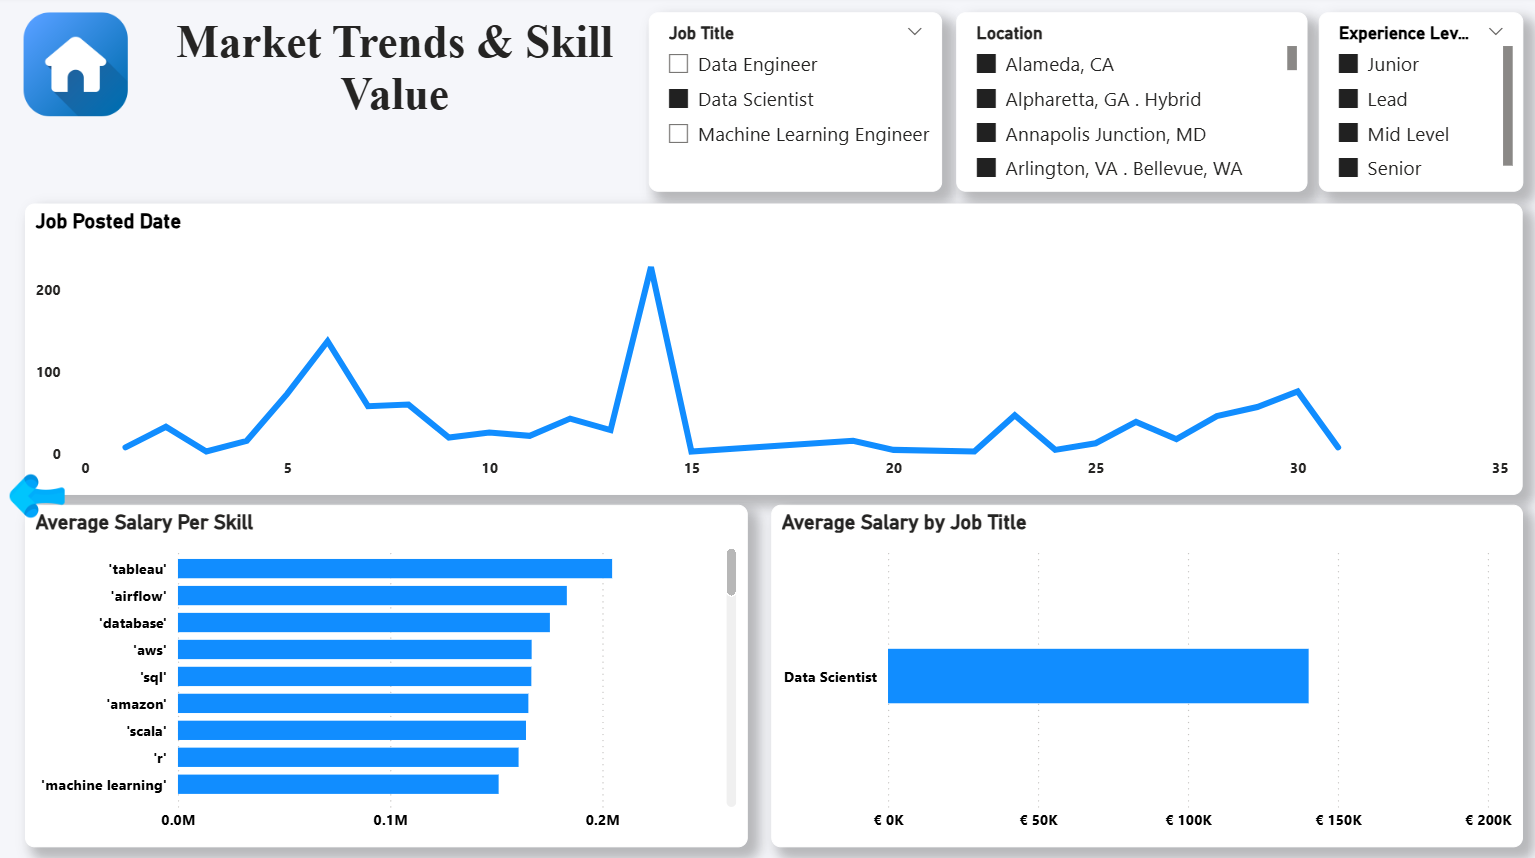

Layout of this report page (visuals, bound fields, positions):
{"tool":"powerbi","page":{"name":"Trends & Insights","canvas":[1280,720],"ordinal":3},"visuals":[{"type":"textbox","box":[122.8,11.2,407.6,149.6],"z":0},{"type":"slicer","fields":{"Values":["data_science_job_posts_2025.Job Title"]},"box":[538.2,13.4,243.4,148.5],"z":1000},{"type":"slicer","fields":{"Values":["data_science_job_posts_2025.location"]},"box":[792.8,13.4,291.4,148.5],"z":2000},{"type":"slicer","fields":{"Values":["data_science_job_posts_2025.seniority_level"]},"box":[1093.2,13.4,169.7,148.5],"z":3000},{"type":"lineChart","title":"Job Posted Date","fields":{"Category":["data_science_job_posts_2025.Converted Date.Variation.Date Hierarchy.Day"],"Y":["data_science_job_posts_2025.Total Jobs"]},"box":[20.9,172.1,1241.9,241.9],"z":4000},{"type":"clusteredBarChart","title":"Average Salary Per Skill","fields":{"Category":["data_science_job_posts_2025.Skill"],"Y":["data_science_job_posts_2025.Avg Salary per Skill"]},"box":[20.9,422.1,598.8,283.7],"z":5000},{"type":"barChart","title":"Average Salary by Job Title","fields":{"Category":["data_science_job_posts_2025.Job Title"],"Y":["data_science_job_posts_2025.Avg Salary"]},"box":[639.5,422.1,623.3,283.7],"z":6000},{"type":"image","box":[0,391.9,61.4,45.8],"z":6001},{"type":"image","box":[15.1,14,94.2,86],"z":6002}]}

Visuals, with their boxes in screenshot pixels (x1, y1, x2, y2), scaled from the page's 1280x720 canvas onto the 1535x858 screenshot:
textbox: x1=147, y1=13, x2=636, y2=192
slicer - data_science_job_posts_2025.Job Title: x1=645, y1=16, x2=937, y2=193
slicer - data_science_job_posts_2025.location: x1=951, y1=16, x2=1300, y2=193
slicer - data_science_job_posts_2025.seniority_level: x1=1311, y1=16, x2=1514, y2=193
"Job Posted Date" lineChart: x1=25, y1=205, x2=1514, y2=493
"Average Salary Per Skill" clusteredBarChart: x1=25, y1=503, x2=743, y2=841
"Average Salary by Job Title" barChart: x1=767, y1=503, x2=1514, y2=841
image: x1=0, y1=467, x2=74, y2=522
image: x1=18, y1=17, x2=131, y2=119
